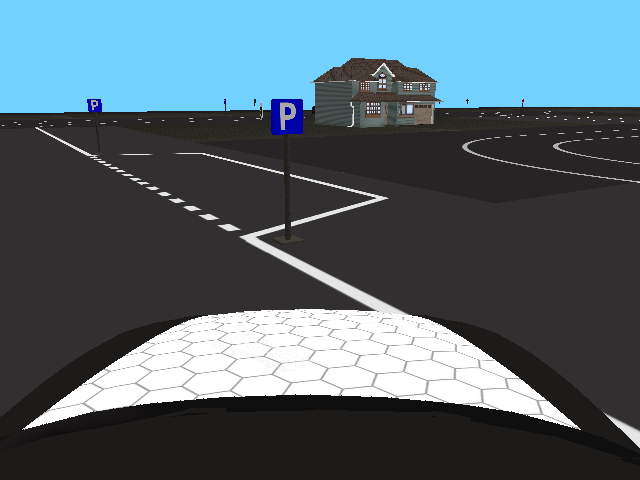parking: (270, 99, 302, 134), (87, 98, 103, 114)
